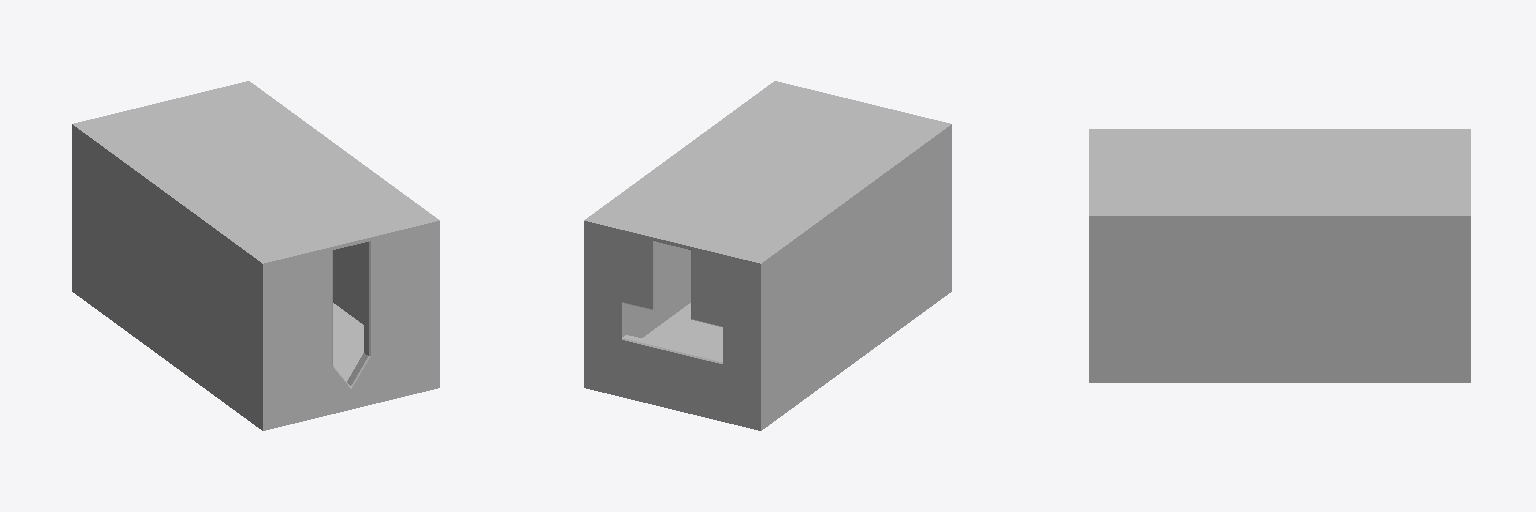
Rendered from TestRoom.obj.
The picture shows the model from 3 angles: view 1: azimuth 30°, elevation 25°; view 2: azimuth 150°, elevation 25°; view 3: azimuth 270°, elevation 25°; orthographic projection.
Visible parts, largest first — view 1: Cube; view 2: Cube; view 3: Cube.
Boxes of the visible parts, box(x1,y1,x2,y2) form: Cube: box(72, 81, 439, 430); Cube: box(584, 81, 951, 430); Cube: box(1089, 129, 1470, 382).
Size of the model in its own units: 50.09 by 45.21 by 93.49.